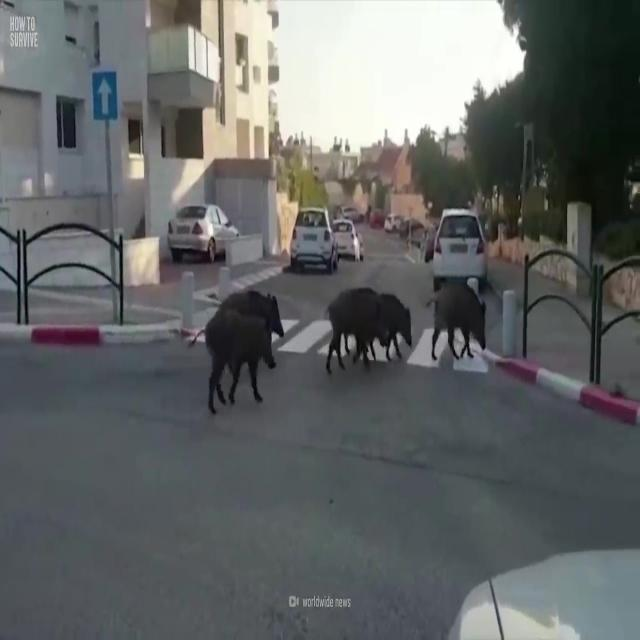pig: (198, 282, 278, 426), (421, 279, 492, 372), (318, 289, 382, 375), (219, 264, 283, 346), (376, 291, 416, 363)
